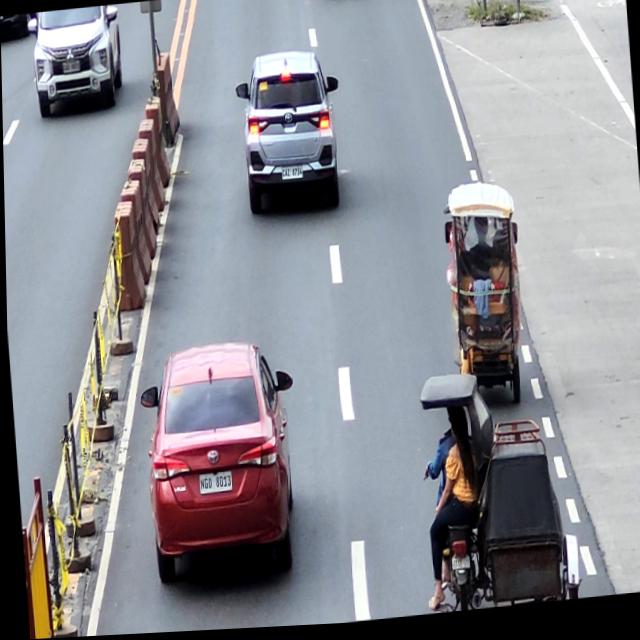Car: (136, 336, 306, 592), (233, 48, 348, 223), (28, 5, 128, 119)
E-bike: (440, 182, 530, 419)
License-Plate: (196, 472, 232, 496), (447, 555, 469, 576), (280, 166, 304, 183), (61, 59, 81, 76)
Tricycle: (417, 365, 580, 618)
